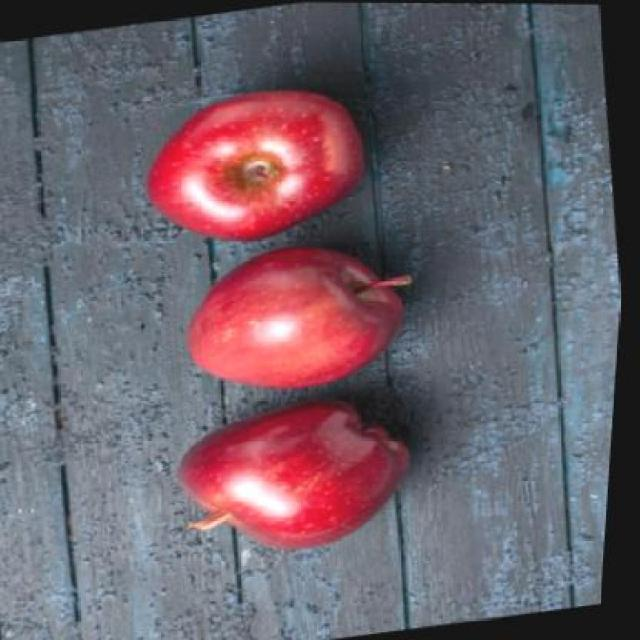Fresh Apple: (164, 405, 413, 557), (134, 92, 372, 243), (182, 249, 396, 385)
